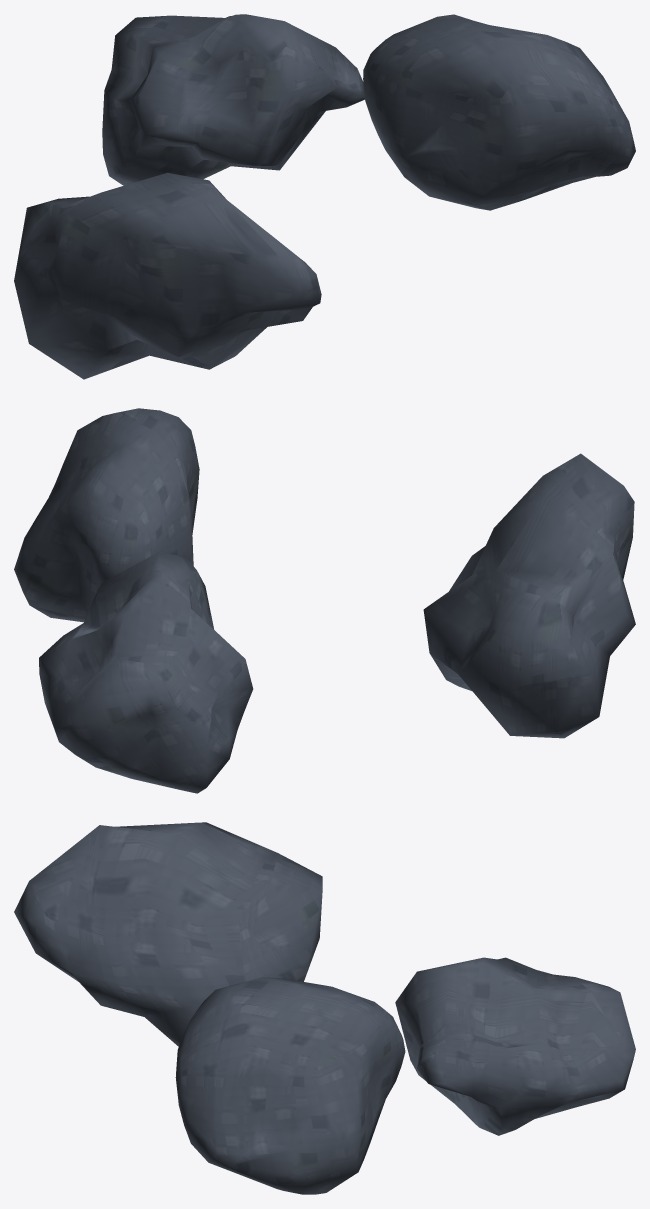
The model's file is ROCKS.fbx.
The picture shows the model from 3 angles, top to bottom: view 1: azimuth 30°, elevation 25°; view 2: azimuth 150°, elevation 25°; view 3: azimuth 270°, elevation 25°; orthographic projection. The views are drawn at different scales.
Parts seen in each view (by area): view 1: ROCK2, ROCK1, ROCK3; view 2: ROCK2, ROCK3, ROCK1; view 3: ROCK2, ROCK1, ROCK3.
Part boxes in pixels (x1,y1,x2,y2): ROCK2: [14, 172, 321, 379]; ROCK1: [363, 14, 635, 210]; ROCK3: [102, 14, 364, 185]; ROCK2: [423, 453, 635, 738]; ROCK3: [39, 553, 253, 793]; ROCK1: [14, 408, 199, 622]; ROCK2: [14, 822, 322, 1046]; ROCK1: [175, 977, 405, 1194]; ROCK3: [395, 957, 635, 1135].
Bounding box in the file's own units: 649 × 249 × 642.
